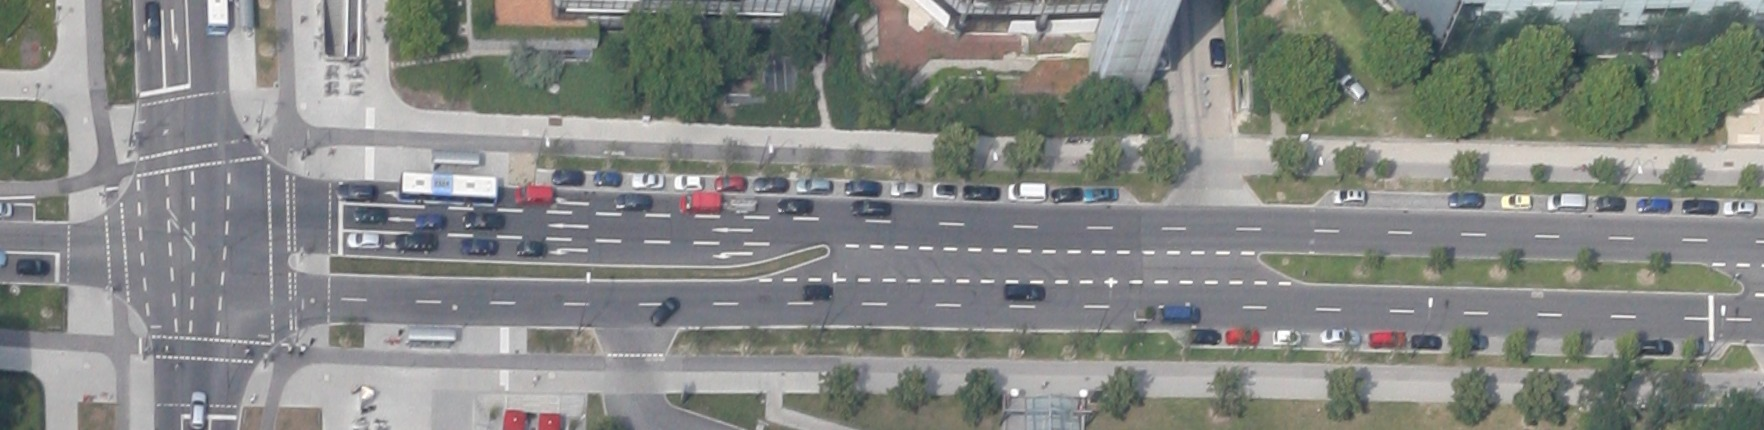car: (648, 295, 679, 326), (1336, 72, 1367, 104), (679, 191, 720, 213), (396, 232, 436, 252), (514, 183, 552, 205), (463, 210, 505, 230), (1547, 191, 1585, 212), (1007, 181, 1045, 201), (337, 181, 375, 201), (850, 198, 888, 217), (143, 1, 161, 41), (1003, 284, 1044, 301), (1320, 328, 1360, 344), (615, 192, 652, 210), (353, 205, 388, 224), (1160, 305, 1199, 322), (844, 178, 880, 196), (15, 258, 49, 276), (188, 391, 205, 428), (460, 238, 497, 254), (776, 197, 812, 214), (962, 183, 998, 200), (1368, 331, 1405, 347), (346, 231, 380, 248), (753, 176, 786, 192), (1447, 191, 1483, 207), (1408, 332, 1441, 349), (1331, 187, 1363, 204), (1635, 197, 1669, 213), (515, 238, 546, 256), (1189, 326, 1219, 344), (1226, 328, 1258, 344), (1640, 338, 1672, 355), (1498, 192, 1530, 209), (631, 172, 663, 189), (1271, 326, 1300, 344), (1681, 199, 1717, 214), (1083, 186, 1116, 201), (1208, 37, 1225, 68), (1722, 200, 1754, 216), (1593, 195, 1624, 210), (715, 174, 745, 191), (553, 168, 583, 185), (802, 284, 831, 301), (890, 180, 920, 196), (796, 178, 829, 192), (415, 212, 443, 229), (673, 173, 701, 190), (593, 170, 620, 187), (728, 197, 756, 213), (1052, 186, 1080, 201), (931, 182, 954, 198), (1132, 307, 1153, 321)
